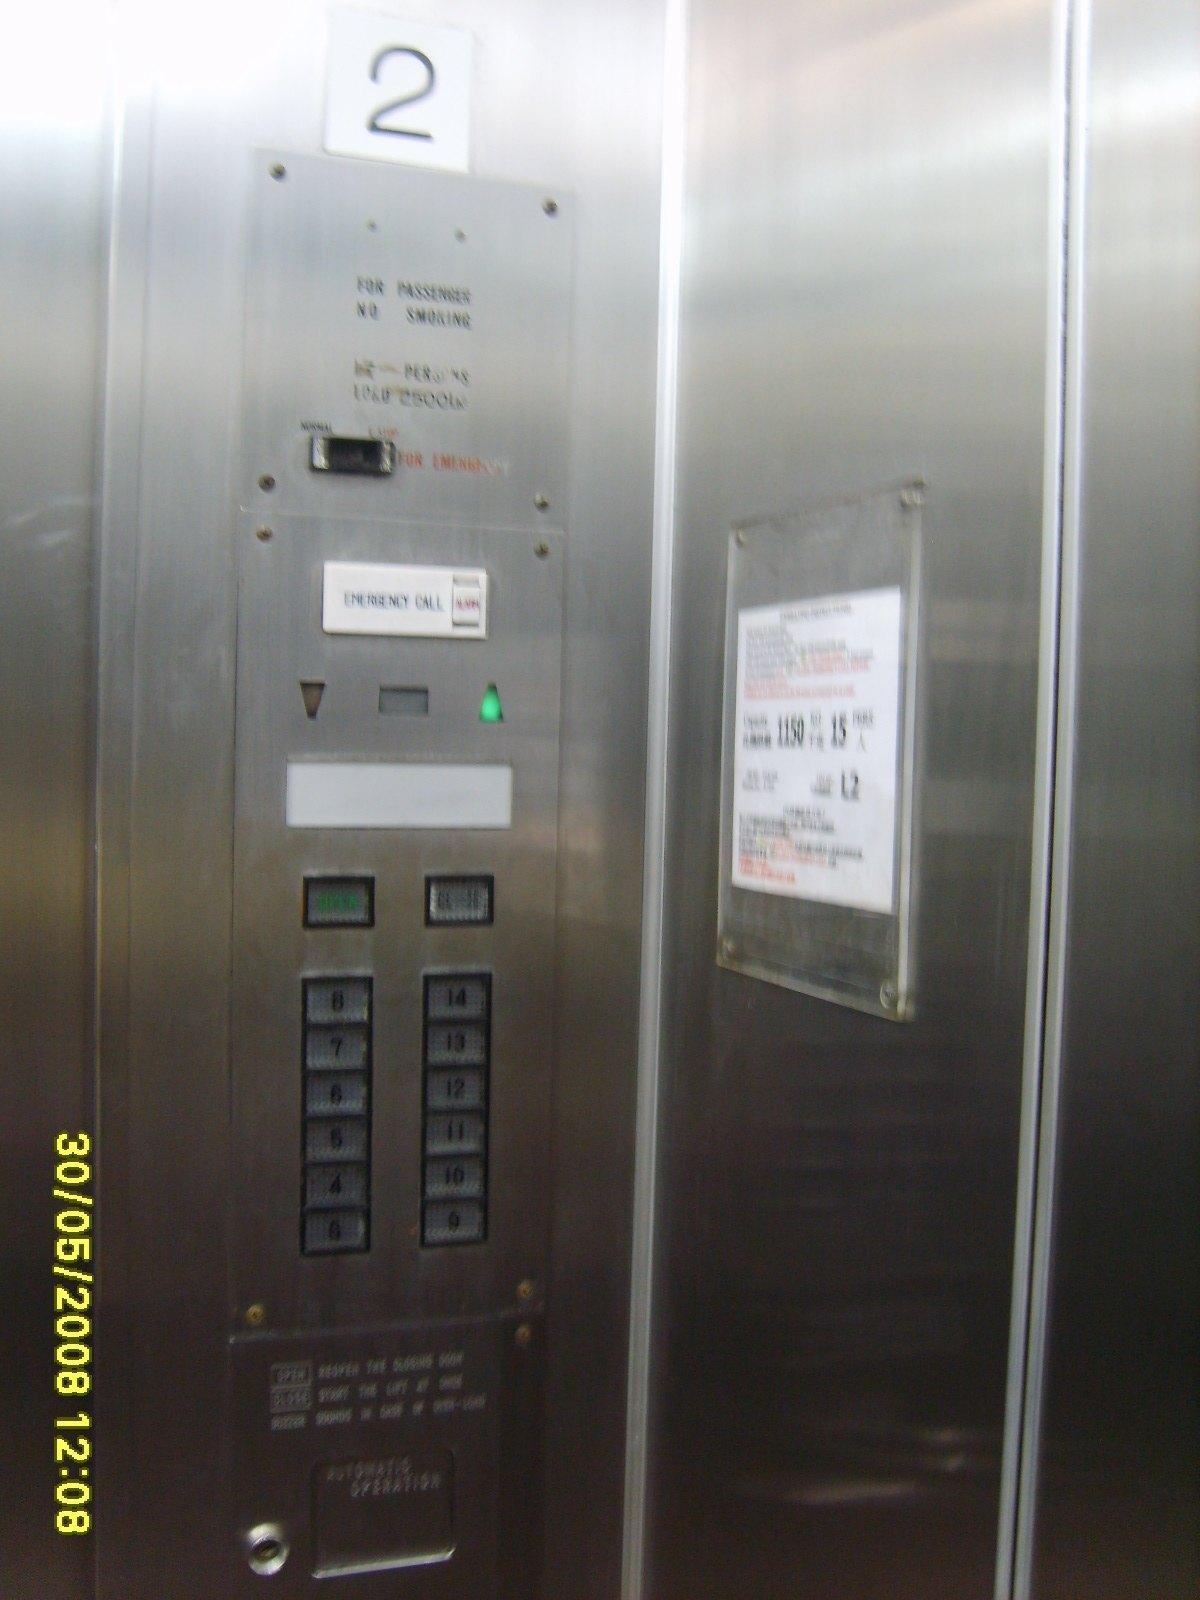10: (420, 1151, 489, 1201)
11: (420, 1107, 492, 1157)
12: (422, 1065, 492, 1112)
13: (422, 1018, 492, 1070)
14: (420, 964, 495, 1024)
4: (299, 1160, 373, 1213)
5: (299, 1115, 376, 1167)
6: (300, 1070, 374, 1121)
7: (299, 1024, 374, 1075)
8: (297, 968, 374, 1029)
9: (418, 1197, 490, 1249)
blur: (297, 1209, 374, 1254)
keyhole: (243, 1524, 291, 1579)
led: (320, 8, 471, 176)
text_blur: (297, 871, 379, 931), (420, 867, 500, 927)
